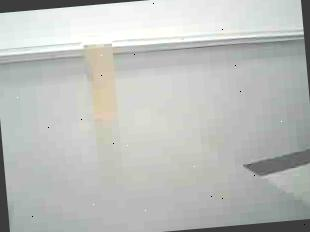Bottle A: (71, 26, 130, 137)
